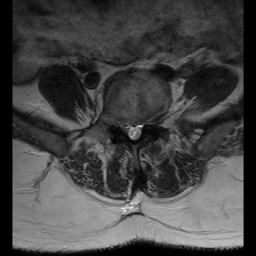CCS_stenosis: (131, 119, 136, 144)
LFS_stenosis: (144, 113, 152, 131)
LLS_normal: (137, 119, 144, 139)
RFS_normal: (118, 113, 127, 135)
RLS_normal: (126, 119, 132, 140)
